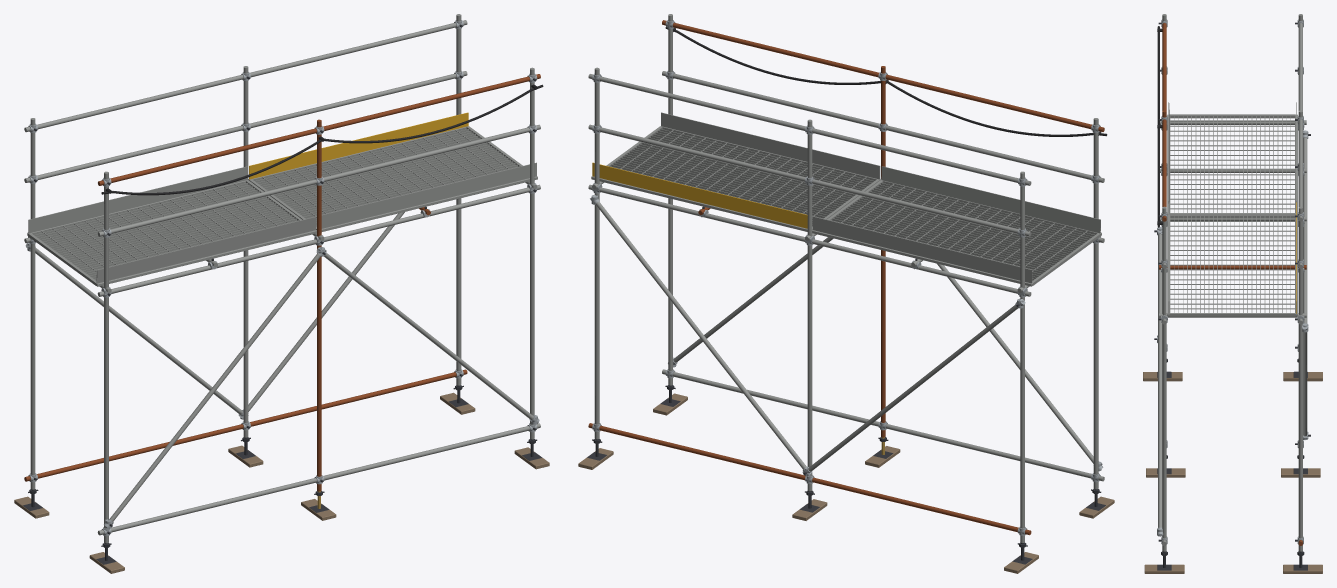
Rendered from deco_scaffold_walkway.fbx.
The picture shows the model from 3 angles, left to right: view 1: azimuth 30°, elevation 25°; view 2: azimuth 150°, elevation 25°; view 3: azimuth 270°, elevation 25°; orthographic projection. The views are drawn at different scales.
Visible parts, largest first — view 1: Scaffold_Walkway_Tubes, Scaffold_Walkway_Deck, Scaffold_Walkway_KickPlates, Scaffold_Walkway_BasePlates, Scaffold_Walkway_Clamps, Scaffold_Walkway_Cable; view 2: Scaffold_Walkway_Tubes, Scaffold_Walkway_Deck, Scaffold_Walkway_KickPlates, Scaffold_Walkway_BasePlates, Scaffold_Walkway_Clamps, Scaffold_Walkway_Cable; view 3: Scaffold_Walkway_Deck, Scaffold_Walkway_Tubes, Scaffold_Walkway_BasePlates, Scaffold_Walkway_Clamps, Scaffold_Walkway_Cable, Scaffold_Walkway_KickPlates.
Part boxes in pixels (x1,y1,x2,y2): Scaffold_Walkway_Tubes: [24, 14, 540, 543]; Scaffold_Walkway_Deck: [27, 126, 537, 286]; Scaffold_Walkway_KickPlates: [28, 112, 536, 283]; Scaffold_Walkway_BasePlates: [14, 385, 549, 573]; Scaffold_Walkway_Clamps: [25, 20, 539, 536]; Scaffold_Walkway_Cable: [101, 84, 543, 195]; Scaffold_Walkway_Tubes: [588, 14, 1104, 542]; Scaffold_Walkway_Deck: [591, 126, 1101, 286]; Scaffold_Walkway_KickPlates: [592, 112, 1100, 283]; Scaffold_Walkway_BasePlates: [578, 385, 1114, 573]; Scaffold_Walkway_Clamps: [590, 20, 1103, 535]; Scaffold_Walkway_Cable: [665, 26, 1107, 136]; Scaffold_Walkway_Deck: [1167, 114, 1297, 316]; Scaffold_Walkway_Tubes: [1158, 14, 1307, 551]; Scaffold_Walkway_BasePlates: [1143, 358, 1322, 573]; Scaffold_Walkway_Clamps: [1154, 19, 1310, 544]; Scaffold_Walkway_Cable: [1157, 26, 1162, 227]; Scaffold_Walkway_KickPlates: [1168, 102, 1296, 313].
Size of the model in its own units: 499 by 423 by 190.
